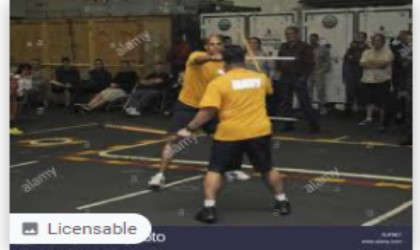baston_e: (240, 39, 264, 69), (246, 56, 292, 61)
baston_v: (291, 53, 297, 63)
